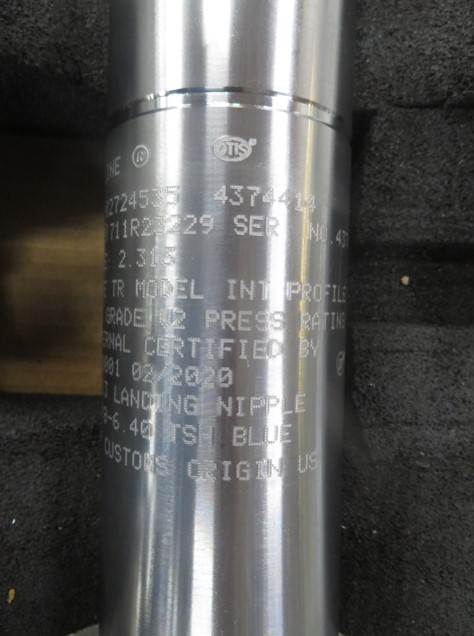character: (193, 422, 217, 450), (264, 215, 282, 246), (269, 309, 288, 337), (250, 337, 271, 362), (172, 275, 190, 303), (215, 394, 233, 422), (253, 278, 271, 305), (185, 334, 203, 361), (266, 337, 286, 361), (198, 209, 215, 237), (200, 457, 218, 483), (238, 278, 257, 302), (220, 311, 238, 336), (184, 421, 199, 451), (230, 424, 248, 449), (232, 214, 248, 242), (201, 365, 218, 391), (217, 458, 234, 484), (265, 457, 285, 479), (278, 422, 297, 445), (188, 277, 204, 304), (165, 391, 182, 416), (263, 394, 280, 419), (248, 185, 264, 211), (279, 392, 295, 418), (167, 420, 183, 446), (217, 336, 235, 359), (183, 365, 201, 388), (217, 367, 235, 390), (247, 425, 264, 449), (237, 307, 251, 336), (249, 394, 264, 421), (235, 459, 251, 484), (182, 394, 199, 417), (202, 336, 217, 362), (249, 216, 265, 240), (264, 424, 280, 448), (235, 393, 248, 421), (254, 310, 269, 334), (170, 364, 185, 388), (141, 336, 158, 357), (151, 393, 167, 415), (187, 458, 202, 481), (308, 187, 319, 218), (157, 336, 171, 360), (159, 309, 174, 331), (207, 307, 218, 337), (215, 179, 228, 204), (291, 187, 304, 212), (185, 212, 198, 237), (236, 337, 249, 362), (280, 187, 294, 210), (226, 277, 240, 300), (141, 418, 155, 441), (264, 185, 277, 209), (296, 392, 307, 420), (232, 183, 244, 207), (130, 361, 143, 383), (171, 338, 186, 357), (144, 365, 158, 385), (140, 387, 152, 410), (310, 224, 323, 245), (175, 309, 187, 330), (255, 457, 265, 480)
